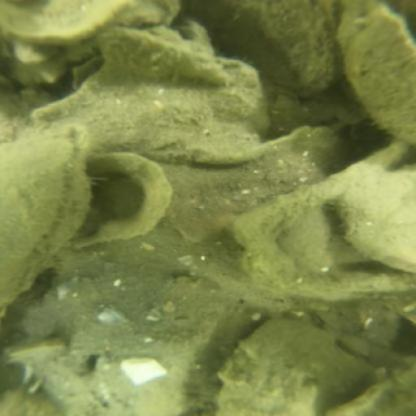Oyster- Indeterminate: (3, 128, 90, 307), (329, 363, 416, 416)
Oyster-Closed: (24, 258, 227, 416), (31, 61, 266, 162), (172, 123, 348, 238), (216, 321, 364, 416), (186, 1, 336, 94), (344, 6, 415, 140), (339, 161, 416, 272), (90, 342, 192, 416), (101, 27, 231, 85), (8, 0, 180, 39)
